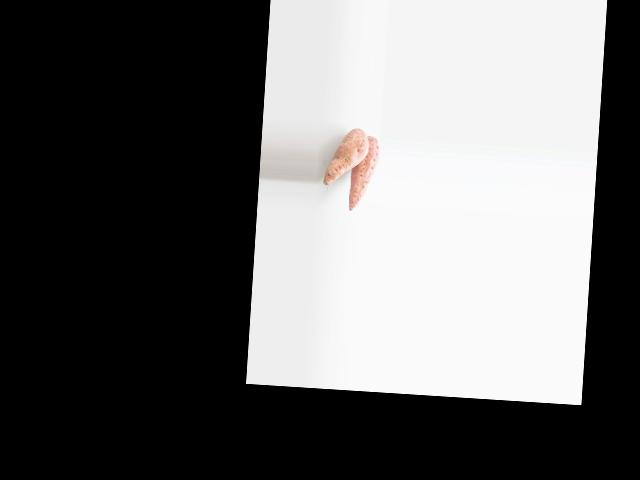sweet_potato: (348, 135, 379, 207)
